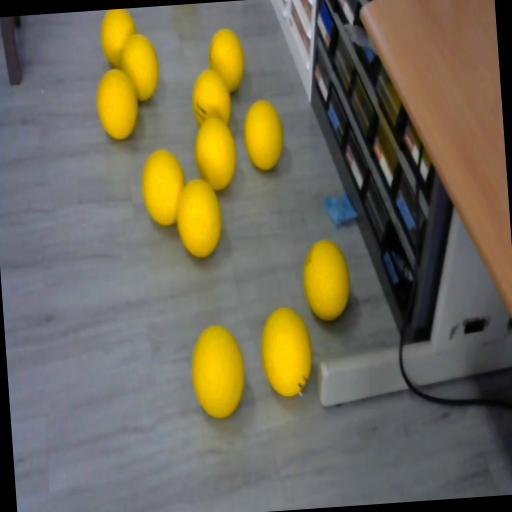FUEL: (188, 322, 248, 419), (257, 304, 315, 398), (172, 175, 225, 260), (300, 236, 352, 322), (140, 148, 188, 228), (192, 114, 240, 192), (94, 67, 140, 142), (242, 99, 286, 171), (208, 28, 247, 92), (99, 8, 139, 69)
